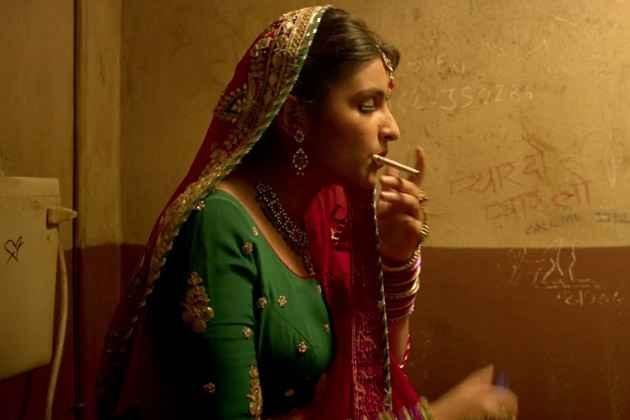cigarette: (374, 153, 424, 177)
